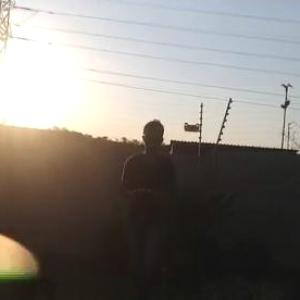follow: (115, 115, 183, 299)
